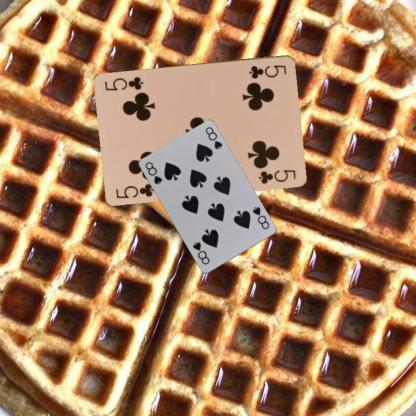5c: (114, 180, 156, 199), (246, 62, 288, 80)
8s: (142, 159, 163, 185), (250, 204, 270, 230)
